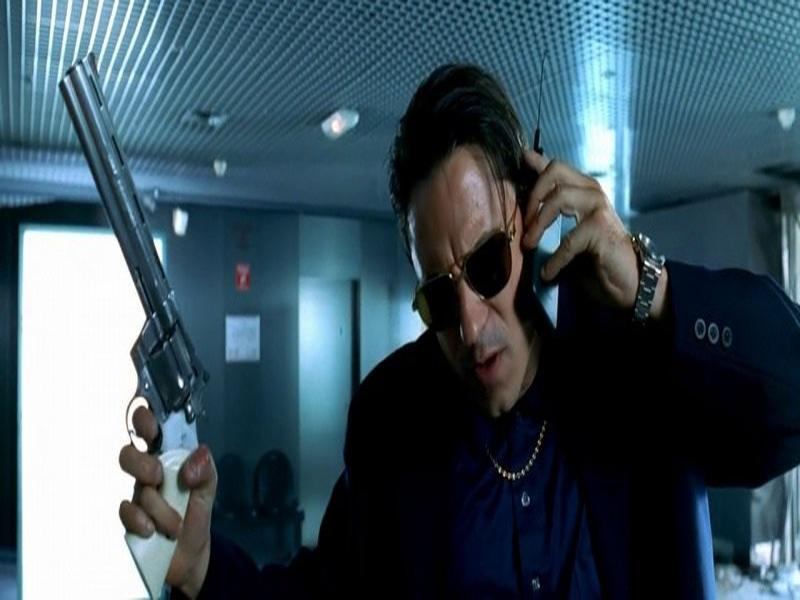Revolver: (47, 48, 217, 594)
